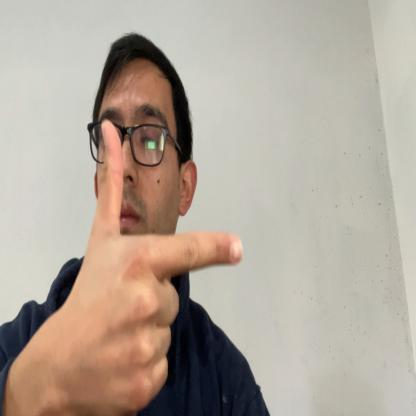G: (80, 120, 243, 415)
